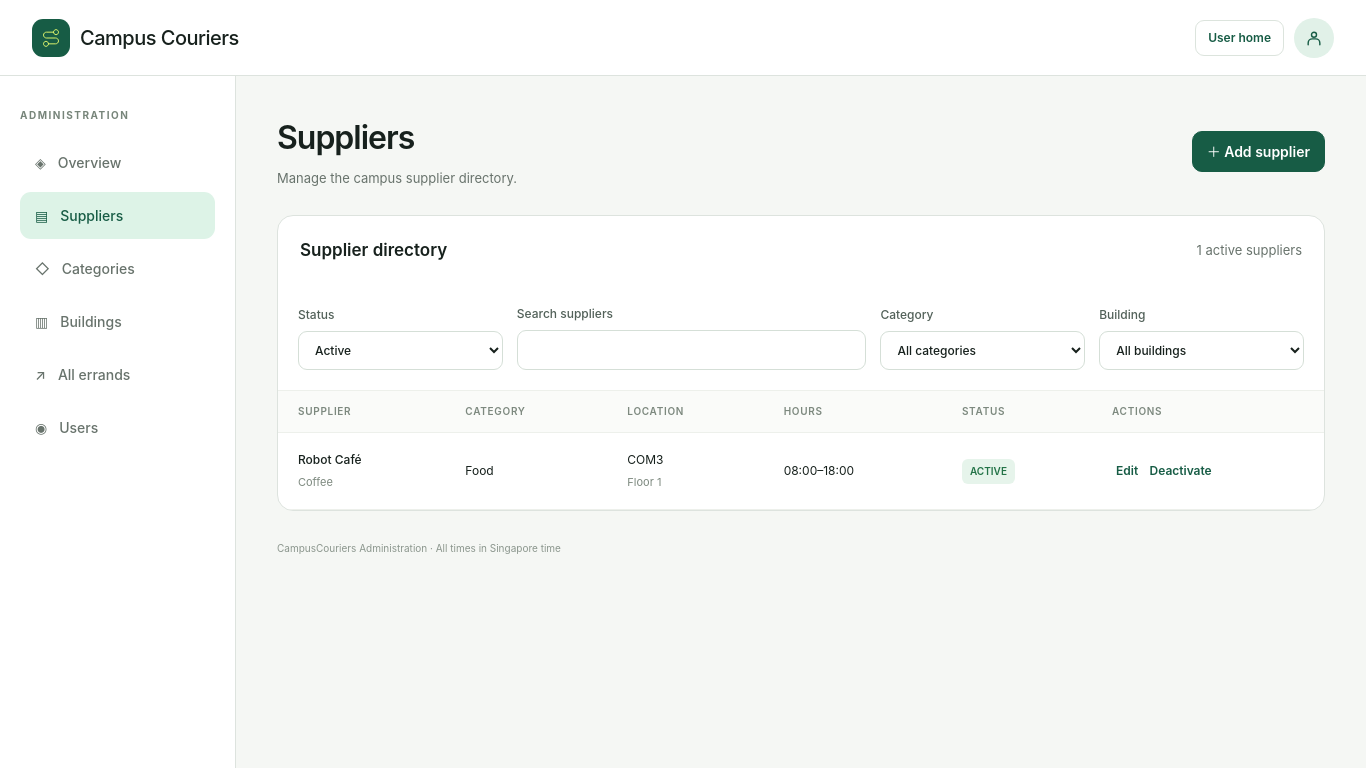
Scenario: Admin dashboard supplier integration › shows a clear reactivation error in a dialog
The width and height of the screenshot is (1366, 768).
Check: the text "Robot Café" is shown, box top-left (298, 452), bottom-right (362, 467)
Select "Inactive" in the dropdown labelled "Status" at point(400, 351), box top-left (298, 331), bottom-right (503, 370)
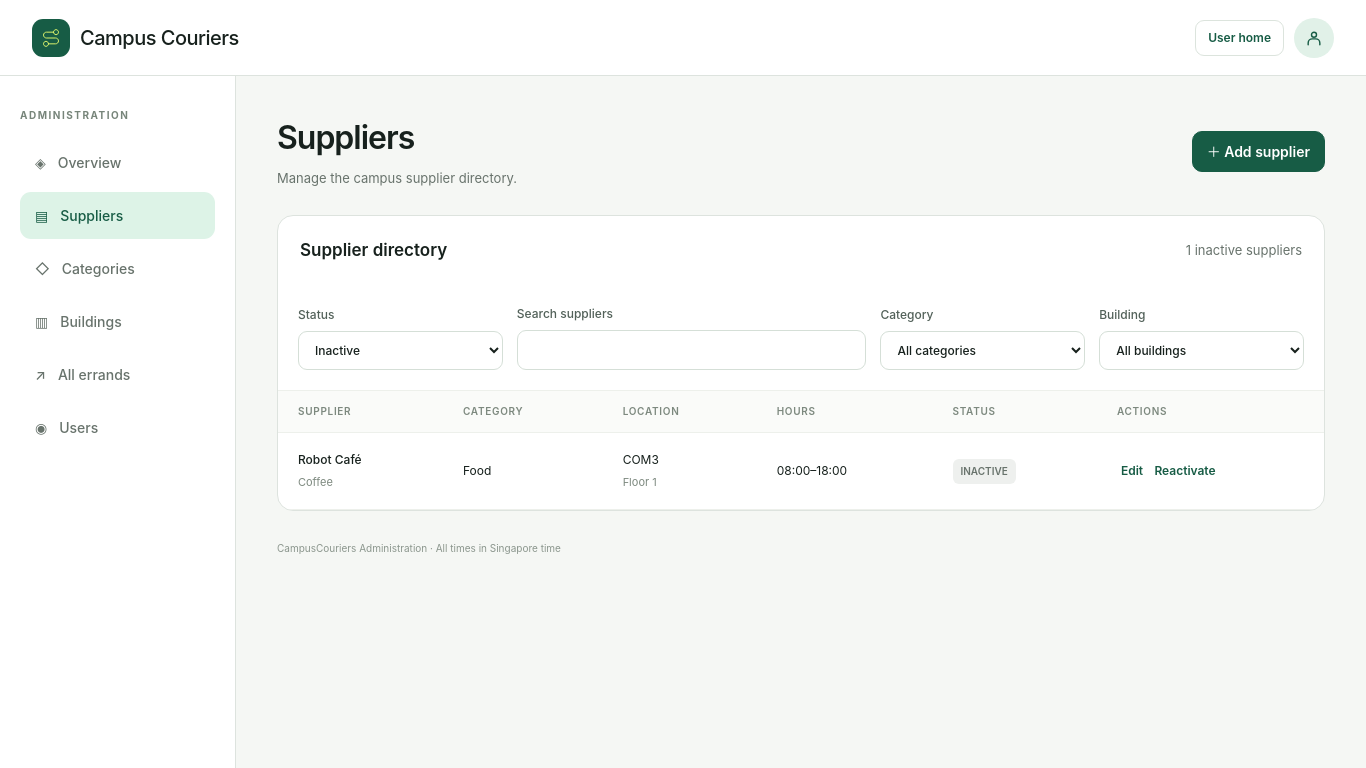
Click the button "Reactivate".
click(1185, 471)  # box top-left (1150, 458), bottom-right (1220, 484)
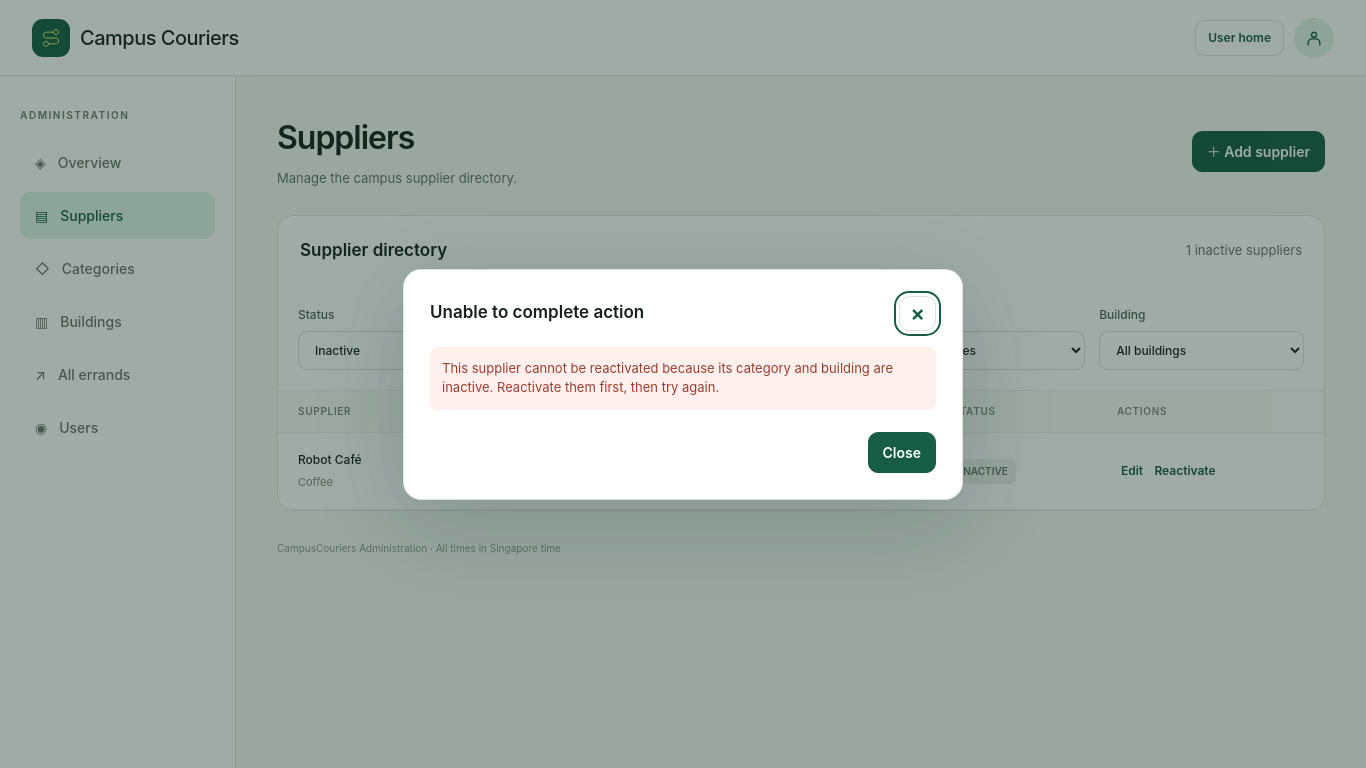
Check: the message shows "category and building are inactive. Reactivate them first", box top-left (442, 360), bottom-right (893, 395)
